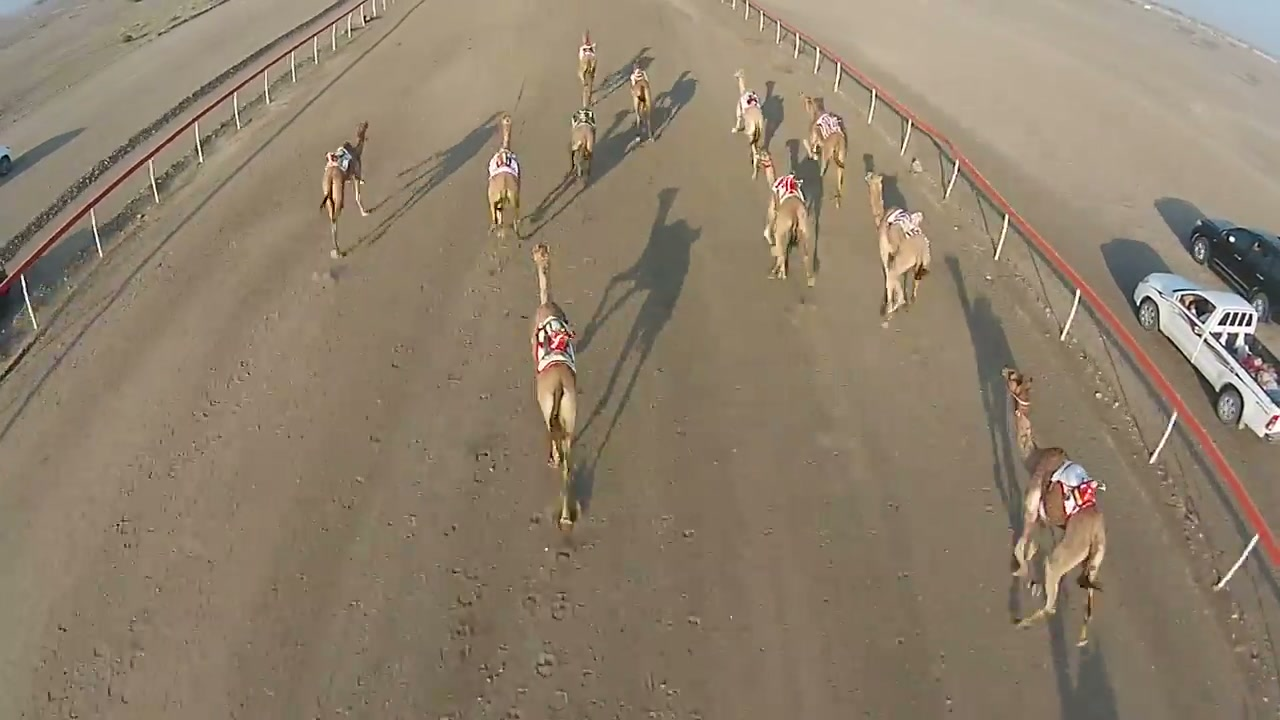animal_foot_print: (442, 406, 729, 706)
